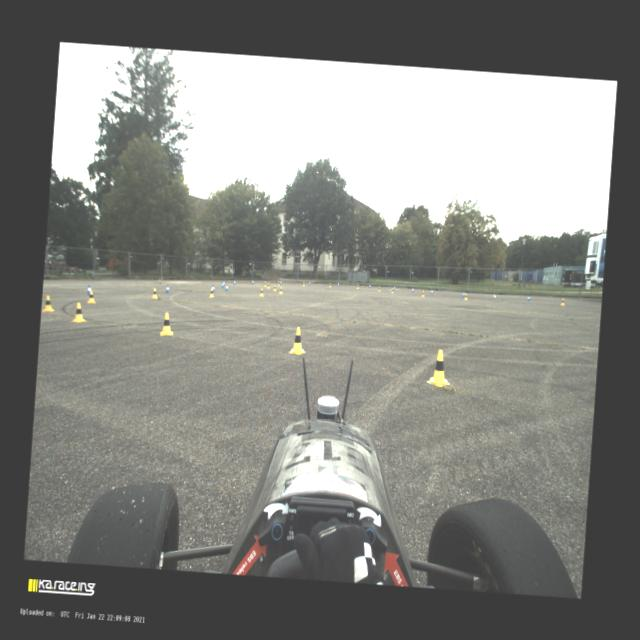blue_cone: (84, 284, 90, 294), (164, 284, 170, 293), (526, 294, 530, 301), (212, 284, 215, 292), (224, 284, 228, 290), (220, 281, 223, 288), (222, 279, 225, 286), (250, 278, 253, 284), (430, 288, 433, 294), (279, 279, 282, 284), (411, 287, 414, 292), (233, 280, 236, 284), (462, 291, 464, 297), (308, 280, 310, 285), (337, 281, 339, 286), (393, 285, 395, 290), (368, 284, 370, 288)
yellow_cone: (426, 348, 452, 388), (288, 326, 307, 354), (160, 312, 174, 336), (71, 302, 87, 322), (42, 295, 55, 312), (86, 290, 95, 304), (150, 288, 158, 298), (208, 288, 214, 298), (259, 288, 264, 296), (278, 286, 283, 294), (560, 298, 565, 306), (463, 293, 468, 300), (272, 284, 276, 292), (266, 282, 270, 289), (262, 280, 266, 286), (276, 280, 280, 286), (421, 290, 424, 297), (391, 288, 394, 294), (328, 282, 331, 287), (302, 282, 305, 286), (356, 284, 359, 288), (378, 286, 380, 292)
